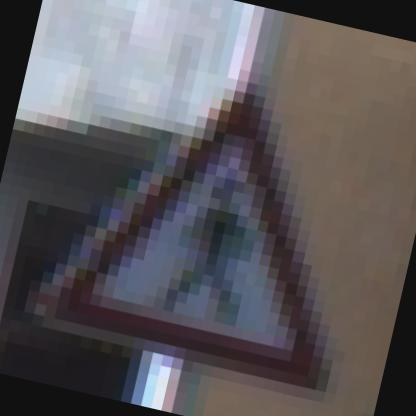crosswalk: (34, 31, 398, 410)
